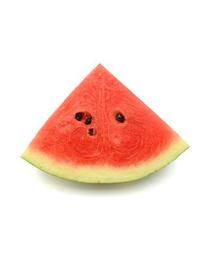watermelon: (20, 60, 192, 185)
